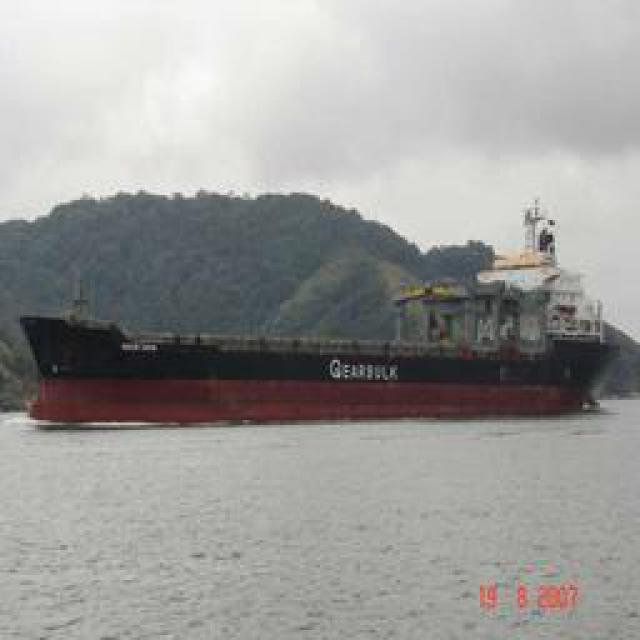Ship: (21, 264, 619, 427)
